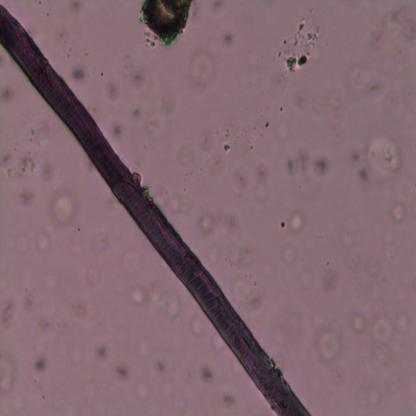Background material: (352, 132, 402, 184), (277, 14, 320, 74), (142, 0, 194, 46), (223, 214, 252, 268), (368, 11, 402, 52), (187, 48, 217, 91), (347, 65, 382, 101), (230, 274, 263, 312), (313, 323, 343, 363), (326, 90, 344, 146), (0, 150, 35, 178), (52, 192, 78, 226), (26, 115, 50, 151), (0, 291, 22, 328), (164, 188, 192, 216), (371, 314, 394, 348), (0, 351, 17, 395), (253, 162, 270, 205), (310, 153, 334, 181), (284, 149, 308, 176), (69, 295, 95, 318), (198, 359, 216, 386), (22, 285, 40, 312), (287, 209, 307, 233), (147, 280, 164, 308), (189, 312, 208, 337), (89, 230, 108, 255), (84, 263, 102, 289), (389, 200, 408, 224), (394, 310, 412, 335), (177, 142, 194, 168), (282, 241, 299, 267), (38, 157, 56, 181), (128, 68, 147, 90), (104, 78, 121, 102), (160, 90, 176, 115), (350, 311, 366, 336), (130, 285, 147, 307), (21, 186, 37, 208), (364, 385, 380, 407), (402, 19, 416, 44), (197, 214, 214, 234), (222, 389, 239, 409), (36, 232, 52, 253), (365, 256, 381, 277), (322, 269, 337, 291), (345, 251, 360, 272), (403, 82, 416, 106), (155, 358, 170, 378), (94, 341, 108, 362), (383, 242, 398, 261), (213, 335, 226, 356), (220, 31, 236, 48), (0, 86, 15, 104), (34, 354, 47, 374), (114, 365, 130, 380), (112, 118, 123, 139), (71, 67, 86, 82), (356, 168, 370, 183), (221, 139, 230, 154), (264, 118, 271, 130), (278, 219, 285, 228)
Cotton: (0, 4, 310, 415)
